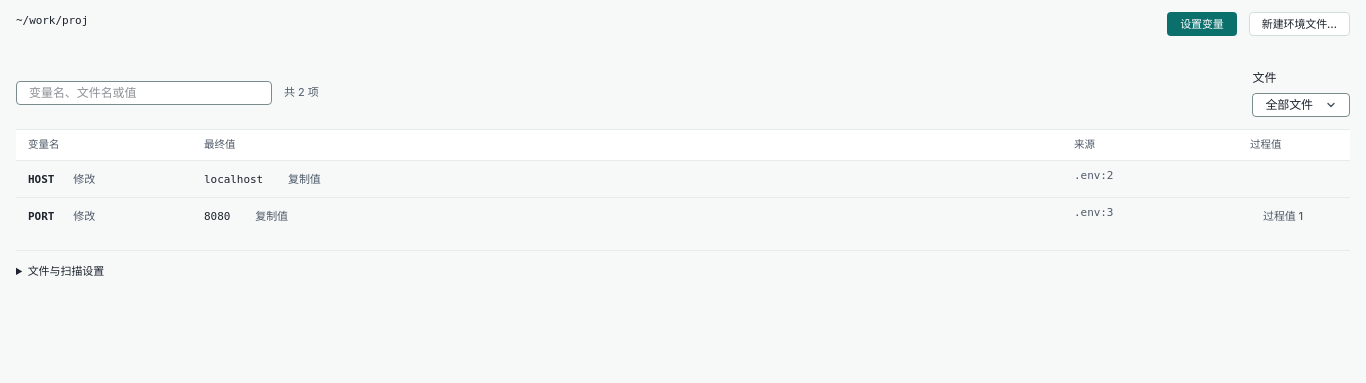
Test: dotenv table: a key that repeats in one file › marks the final value with a 最终 badge once the chain is opened
The image size is (1366, 383).
Click the button "过程值 1": [1283, 216] box [1250, 204, 1316, 228]
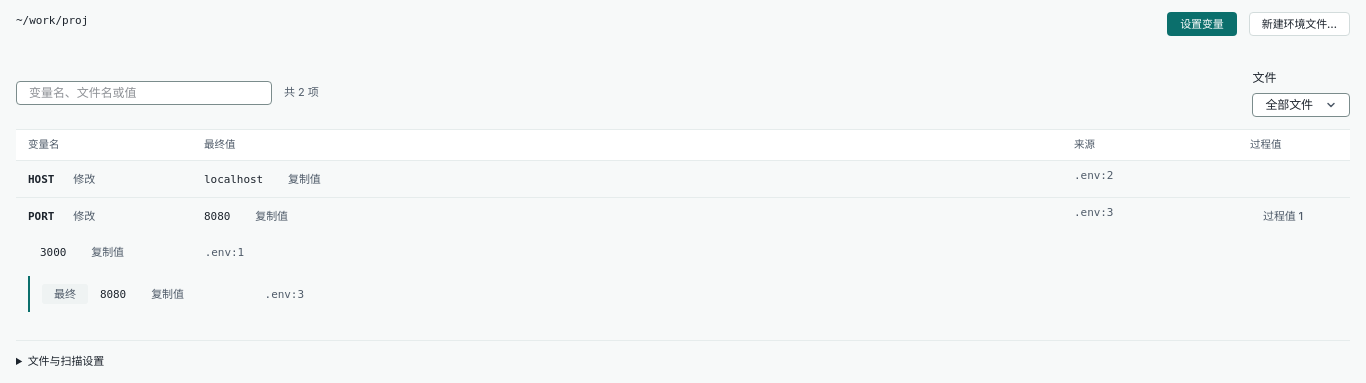
Result: the text "最终" is shown at [42, 284, 88, 304]
